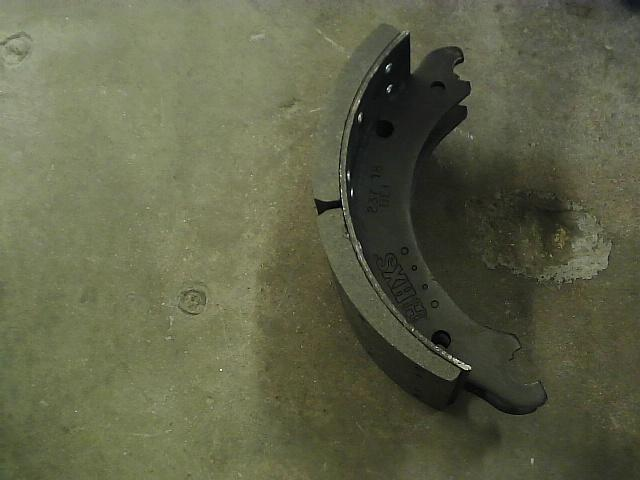brake-shoes: (310, 23, 548, 418)
